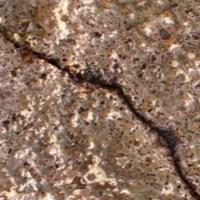crack: (3, 26, 199, 199)
